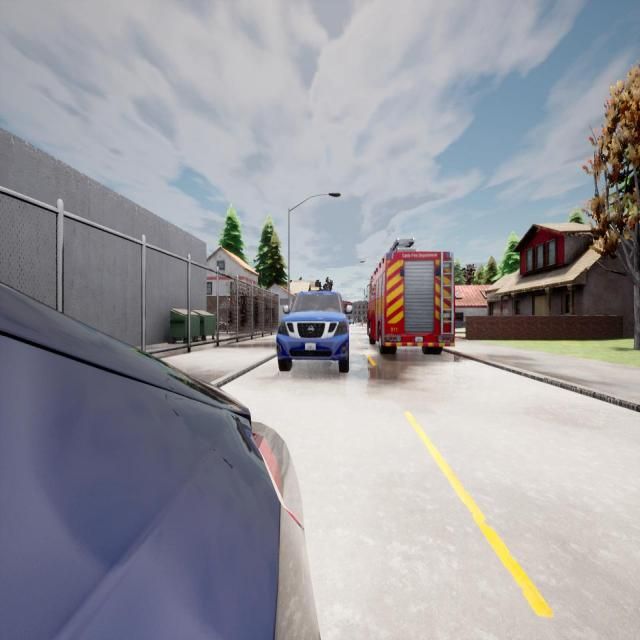Vehicle: (1, 288, 317, 640), (368, 239, 456, 353), (277, 291, 349, 372), (348, 319, 354, 325)
